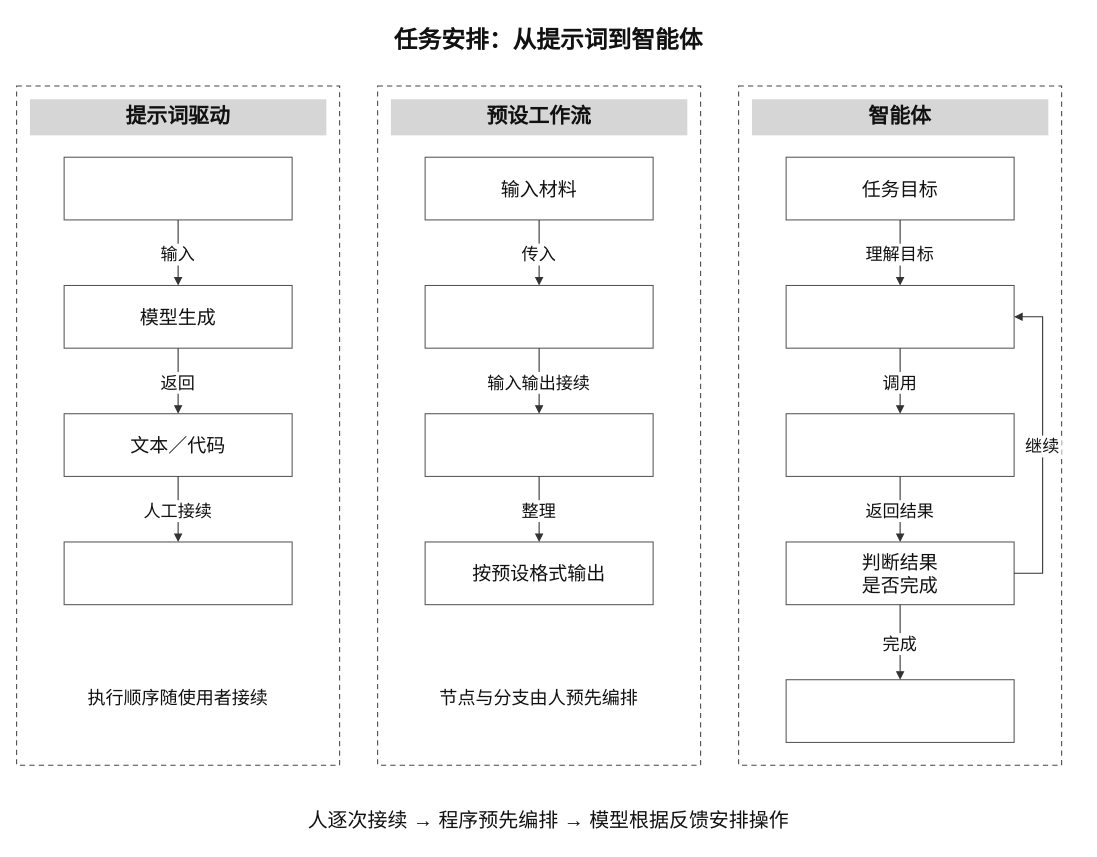
Some shapes in this 1097 by 857 pixel diagram are drawn without their labels. Here are the shapes that lost their labels. From the top down, the centre of each, then its label:
At point 177,188: "任务要求与提示词".
At point 538,316: "节点一：提取信息".
At point 899,316: "选择下一项操作".
At point 538,445: "节点二：整理结果".
At point 899,445: "工具执行".
At point 177,573: "使用者安排下一步".
At point 899,711: "交付文件".
